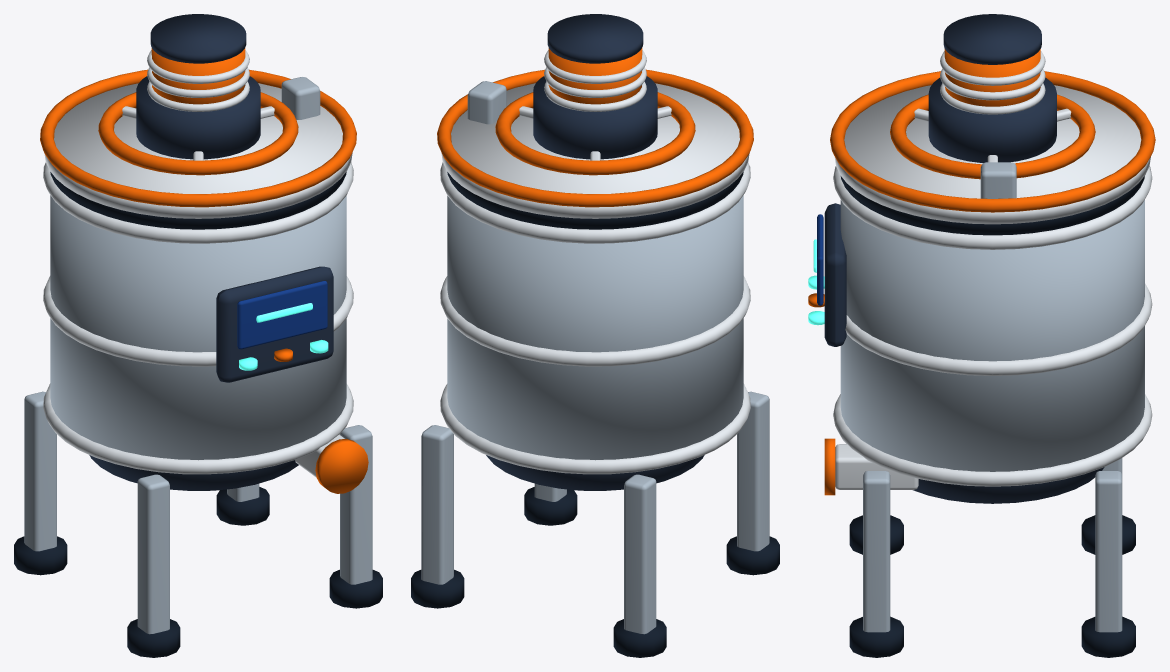
File: mixing-v6.glb
3 views of the same model, side by side, from view 1: azimuth 30°, elevation 25°; view 2: azimuth 150°, elevation 25°; view 3: azimuth 270°, elevation 25° (orthographic). The views are drawn at different scales.
Parts seen in each view (by area): view 1: Mixer_Tank_Shell, Tank_Lid_Stainless, Lid_Orange_Accent, Motor_Gearbox, Control_Backplate, Welded_Stainless_Band, Stainless_Leg, Welded_Stainless_Band.002, Stainless_Leg.001, Spinning_Drive_Ring, Touch_Screen, Motor_Cap (+14 smaller); view 2: Mixer_Tank_Shell, Tank_Lid_Stainless, Lid_Orange_Accent, Motor_Gearbox, Welded_Stainless_Band, Welded_Stainless_Band.001, Stainless_Leg.001, Stainless_Leg.003, Welded_Stainless_Band.002, Stainless_Leg, Spinning_Drive_Ring, Motor_Cap (+11 smaller); view 3: Mixer_Tank_Shell, Tank_Lid_Stainless, Lid_Orange_Accent, Motor_Gearbox, Welded_Stainless_Band, Welded_Stainless_Band.002, Welded_Stainless_Band.001, Stainless_Leg.003, Stainless_Leg.002, Spinning_Drive_Ring, Motor_Cap, Tank_Lid_Gasket (+14 smaller).
Part boxes in pixels (bbox=[...]): Mixer_Tank_Shell: bbox=[50, 195, 346, 460]; Tank_Lid_Stainless: bbox=[44, 83, 352, 218]; Lid_Orange_Accent: bbox=[40, 69, 356, 207]; Motor_Gearbox: bbox=[136, 76, 260, 159]; Control_Backplate: bbox=[216, 266, 333, 382]; Welded_Stainless_Band: bbox=[43, 383, 353, 474]; Stainless_Leg: bbox=[137, 474, 169, 634]; Welded_Stainless_Band.002: bbox=[43, 162, 353, 243]; Stainless_Leg.001: bbox=[24, 391, 56, 551]; Spinning_Drive_Ring: bbox=[98, 92, 298, 175]; Touch_Screen: bbox=[237, 281, 327, 349]; Motor_Cap: bbox=[150, 14, 246, 63]; Mixer_Tank_Shell: bbox=[447, 195, 743, 460]; Tank_Lid_Stainless: bbox=[441, 83, 749, 218]; Lid_Orange_Accent: bbox=[437, 69, 753, 207]; Motor_Gearbox: bbox=[533, 76, 657, 159]; Welded_Stainless_Band: bbox=[440, 383, 750, 474]; Welded_Stainless_Band.001: bbox=[440, 276, 750, 366]; Stainless_Leg.001: bbox=[624, 474, 656, 634]; Stainless_Leg.003: bbox=[421, 425, 453, 584]; Welded_Stainless_Band.002: bbox=[440, 162, 750, 243]; Stainless_Leg: bbox=[737, 391, 769, 551]; Spinning_Drive_Ring: bbox=[495, 92, 695, 175]; Motor_Cap: bbox=[547, 14, 643, 63]; Mixer_Tank_Shell: bbox=[840, 200, 1144, 471]; Tank_Lid_Stainless: bbox=[834, 85, 1150, 224]; Lid_Orange_Accent: bbox=[830, 71, 1155, 212]; Motor_Gearbox: bbox=[928, 77, 1056, 162]; Welded_Stainless_Band: bbox=[833, 394, 1152, 486]; Welded_Stainless_Band.002: bbox=[833, 166, 1152, 249]; Welded_Stainless_Band.001: bbox=[845, 283, 1152, 375]; Stainless_Leg.003: bbox=[1095, 471, 1122, 632]; Stainless_Leg.002: bbox=[863, 471, 890, 632]; Spinning_Drive_Ring: bbox=[890, 94, 1095, 179]; Motor_Cap: bbox=[943, 14, 1041, 64]; Tank_Lid_Gasket: bbox=[840, 176, 1144, 235].
Size of the model in its own units: 0.814 by 1.55 by 0.868.
